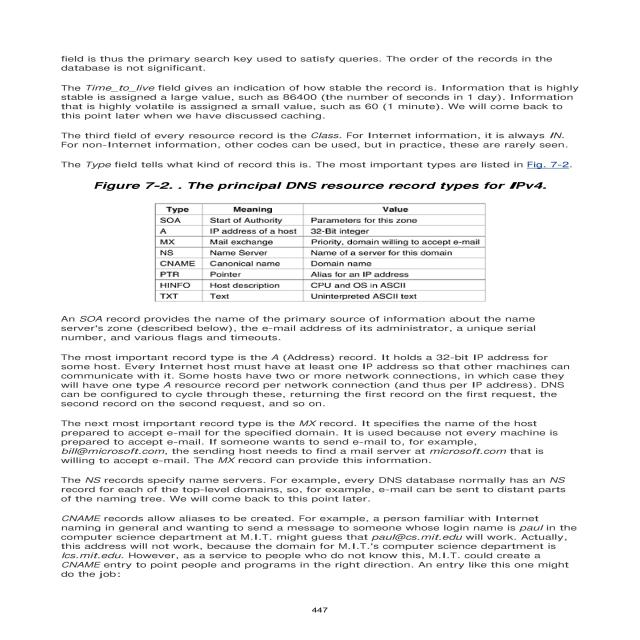diagram: (69, 174, 570, 306)
